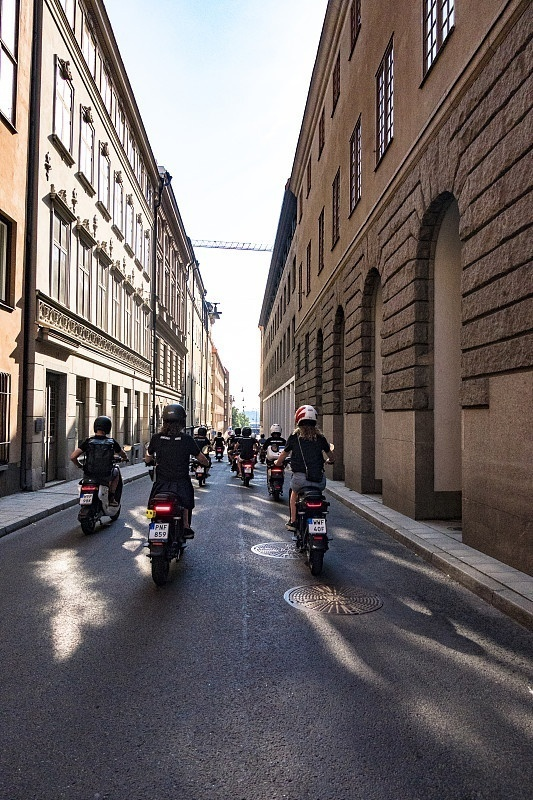non-vehicle: (289, 479, 332, 579), (144, 491, 189, 583), (73, 458, 124, 534), (264, 442, 283, 492), (191, 451, 211, 484), (237, 454, 258, 485)
